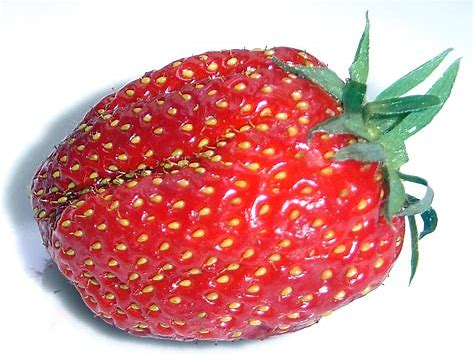strawberry: (24, 44, 437, 343)
